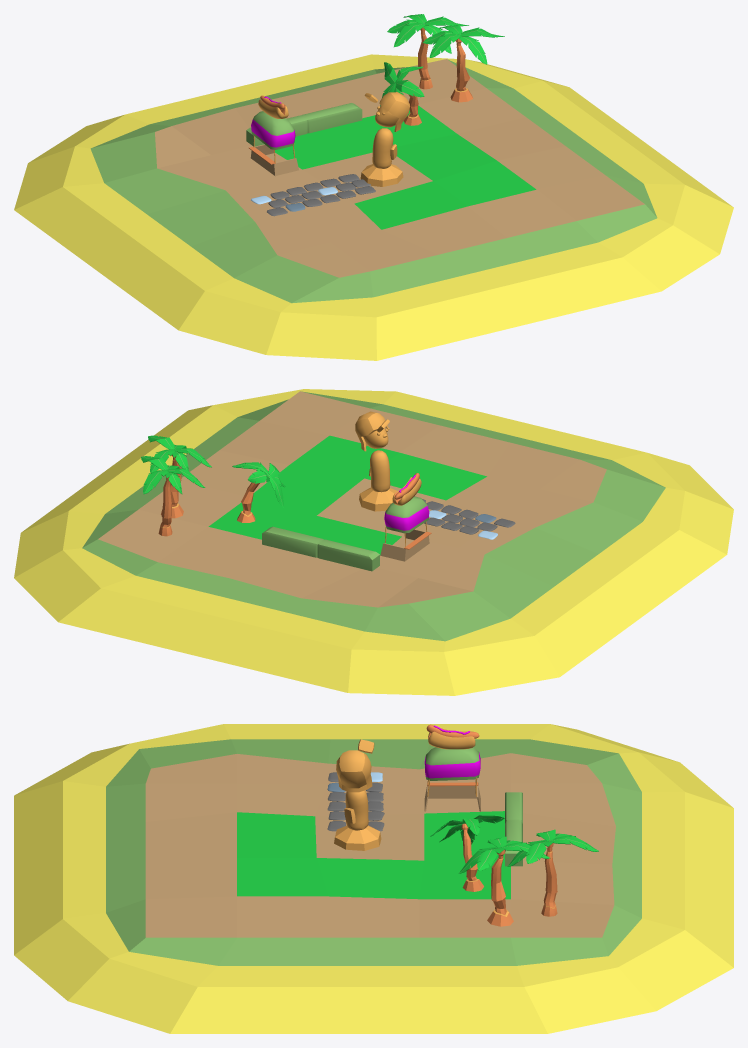
Rendered from island3.fbx.
3 views of the same model, one above another, from view 1: azimuth 30°, elevation 25°; view 2: azimuth 150°, elevation 25°; view 3: azimuth 270°, elevation 25° (orthographic). The views are drawn at different scales.
Parts seen in each view (by area): view 1: Plane.002, statue, HotDog_stand, tiles, palmtree2, Cube.014, Cylinder, palmtree3; view 2: Plane.002, HotDog_stand, statue, Cube.014, tiles, Cylinder, palmtree2, palmtree3; view 3: Plane.002, HotDog_stand, statue, palmtree2, Cylinder, tiles, palmtree3, Cube.014.
Boxes of the visible parts, bbox=[...] form: Plane.002: bbox=[14, 54, 733, 360]; statue: bbox=[360, 92, 409, 186]; HotDog_stand: bbox=[249, 95, 298, 175]; tiles: bbox=[251, 174, 375, 216]; palmtree2: bbox=[423, 25, 504, 102]; Cube.014: bbox=[246, 103, 362, 146]; Cylinder: bbox=[387, 14, 468, 89]; palmtree3: bbox=[380, 62, 424, 125]; Plane.002: bbox=[14, 389, 733, 695]; HotDog_stand: bbox=[380, 473, 431, 561]; statue: bbox=[355, 411, 397, 511]; Cube.014: bbox=[262, 526, 379, 571]; tiles: bbox=[422, 499, 515, 539]; Cylinder: bbox=[141, 456, 205, 536]; palmtree2: bbox=[148, 435, 211, 518]; palmtree3: bbox=[232, 462, 285, 522]; Plane.002: bbox=[14, 724, 733, 1033]; HotDog_stand: bbox=[424, 724, 480, 811]; statue: bbox=[334, 739, 381, 850]; palmtree2: bbox=[458, 836, 550, 926]; Cylinder: bbox=[507, 829, 598, 916]; tiles: bbox=[327, 772, 384, 831]; palmtree3: bbox=[430, 815, 504, 891]; Cube.014: bbox=[505, 792, 522, 866].
Bounding box in the file's own units: 8073 × 1708 × 8073.
